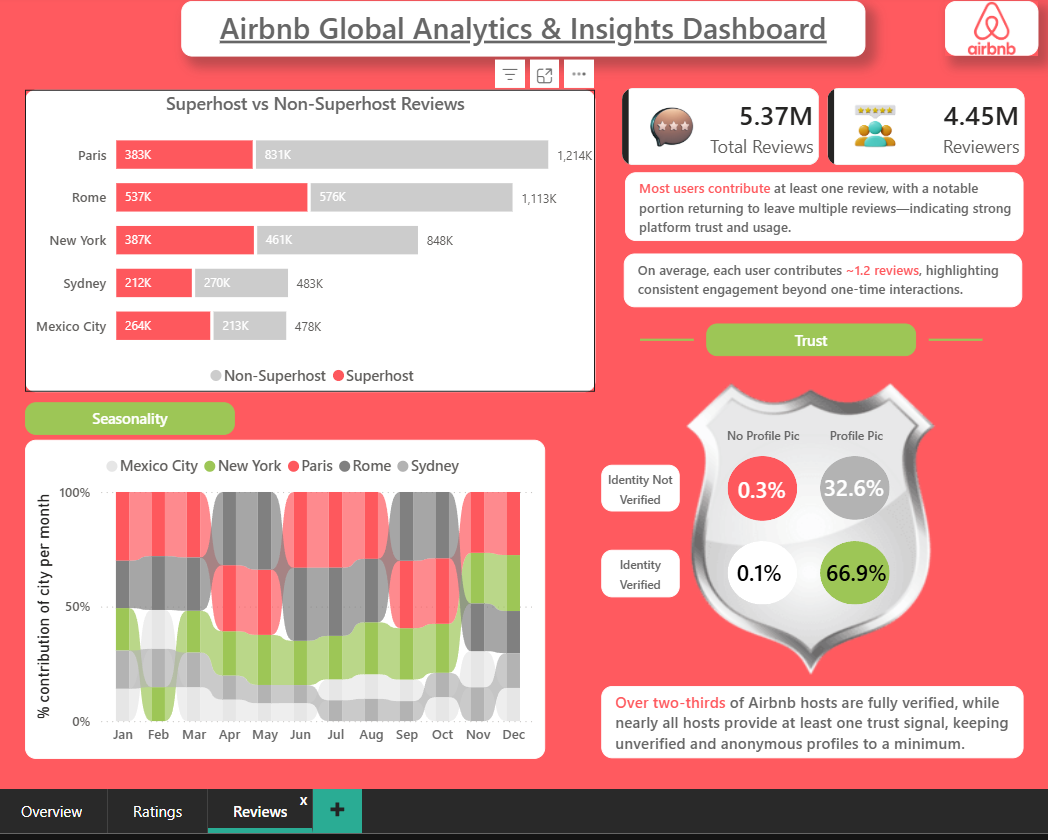

What the dashboard file says about the page in this screenshot:
{"tool":"powerbi","page":{"name":"Reviews","canvas":[960,720],"ordinal":2},"visuals":[{"type":"textbox","box":[169.4,5,621,50],"z":0},{"type":"cardVisual","fields":{"Data":["Reviews.Total Review","Reviews.Unique Reviewers"]},"box":[562.6,77.1,378.8,82.8],"z":0,"group":"g2"},{"type":"image","box":[862,4.5,85.1,49.9],"z":1000},{"type":"image","box":[564,94.5,100.9,47.9],"z":1000,"group":"g2"},{"type":"image","box":[748,85.3,102.1,65.4],"z":2000,"group":"g2"},{"type":"image","box":[520.6,282.4,438.9,402.6],"z":3000,"group":"g1"},{"type":"ribbonChart","fields":{"Series":["Listings.city"],"Y":["Reviews.% contribution of each city within a month"],"Category":["Reviews.Review Month"]},"box":[27.2,402.6,471.8,289.2],"z":3000},{"type":"textbox","box":[645.4,297.1,190.5,29.5],"z":4000,"group":"g1"},{"type":"textbox","box":[27.2,368.6,190.5,29.5],"z":4000},{"type":"shape","box":[585.3,292.6,48.8,38.6],"z":5000,"group":"g1"},{"type":"textbox","box":[550.1,626.1,383.4,65.8],"z":5000},{"type":"group","id":"g1","title":"Group 1","box":[520.6,282.4,438.9,402.6],"z":6000},{"type":"shape","box":[847.3,292.6,48.8,38.6],"z":6000,"group":"g1"},{"type":"barChart","title":"Superhost vs Non-Superhost Reviews","fields":{"Category":["Listings.city"],"Y":["Reviews.Total Review"],"Series":["Listings.Superhost Status"]},"box":[27.2,85.1,517.2,274.5],"z":7000},{"type":"textbox","box":[653.3,383.3,87.3,31.8],"z":7000,"group":"g1"},{"type":"group","id":"g2","title":"Group 2","box":[562.6,77.1,378.8,82.8],"z":8000},{"type":"textbox","box":[740.6,383.3,81.7,34],"z":8000,"group":"g1"},{"type":"textbox","box":[571.6,159.9,361.8,62.4],"z":9000},{"type":"textbox","box":[550,425.5,71.1,42.2],"z":9000,"group":"g1"},{"type":"textbox","box":[570.5,233.6,361.8,48.8],"z":10000},{"type":"textbox","box":[550,502.2,71.1,43.3],"z":10000,"group":"g1"},{"type":"shape","box":[664.4,417.7,63.3,58.9],"z":11000,"group":"g1"},{"type":"shape","box":[748.9,417.7,63.3,58],"z":12000,"group":"g1"},{"type":"shape","box":[664.4,494.4,63.3,57.8],"z":13000,"group":"g1"},{"type":"shape","box":[748.9,494.4,63.3,57.8],"z":14000,"group":"g1"},{"type":"cardVisual","fields":{"Data":["Listings.NotVerify_NoProfile%"]},"box":[666.7,426.6,61.1,38.9],"z":15000,"group":"g1"},{"type":"cardVisual","fields":{"Data":["Listings.NotVerify_Profile%"]},"box":[752.2,425.5,61.1,37.8],"z":16000,"group":"g1"},{"type":"cardVisual","fields":{"Data":["Listings.Verify_NoProfile%"]},"box":[667.8,502.2,61.1,37.8],"z":17000,"group":"g1"},{"type":"cardVisual","fields":{"Data":["Listings.Verify_Profile%"]},"box":[752.2,502.2,61.1,37.8],"z":18000,"group":"g1"}]}

Visuals, with their boxes on the page's 960x720 design canvas (x1, y1, x2, y2). These are canvas units, not pixel positions in the 1048x840 screenshot, which may show the page scaled, cropped or inside an application window:
textbox: Rect(169, 5, 790, 55)
cardVisual - Reviews.Total Review x Reviews.Unique Reviewers: Rect(563, 77, 941, 160)
image: Rect(862, 4, 947, 54)
image: Rect(564, 94, 665, 142)
image: Rect(748, 85, 850, 151)
image: Rect(521, 282, 960, 685)
ribbonChart - Listings.city x Reviews.% contribution of each city within a month: Rect(27, 403, 499, 692)
textbox: Rect(645, 297, 836, 327)
textbox: Rect(27, 369, 218, 398)
shape: Rect(585, 293, 634, 331)
textbox: Rect(550, 626, 934, 692)
"Group 1" group: Rect(521, 282, 960, 685)
shape: Rect(847, 293, 896, 331)
"Superhost vs Non-Superhost Reviews" barChart: Rect(27, 85, 544, 360)
textbox: Rect(653, 383, 741, 415)
"Group 2" group: Rect(563, 77, 941, 160)
textbox: Rect(741, 383, 822, 417)
textbox: Rect(572, 160, 933, 222)
textbox: Rect(550, 426, 621, 468)
textbox: Rect(570, 234, 932, 282)
textbox: Rect(550, 502, 621, 546)
shape: Rect(664, 418, 728, 477)
shape: Rect(749, 418, 812, 476)
shape: Rect(664, 494, 728, 552)
shape: Rect(749, 494, 812, 552)
cardVisual - Listings.NotVerify_NoProfile%: Rect(667, 427, 728, 466)
cardVisual - Listings.NotVerify_Profile%: Rect(752, 426, 813, 463)
cardVisual - Listings.Verify_NoProfile%: Rect(668, 502, 729, 540)
cardVisual - Listings.Verify_Profile%: Rect(752, 502, 813, 540)
